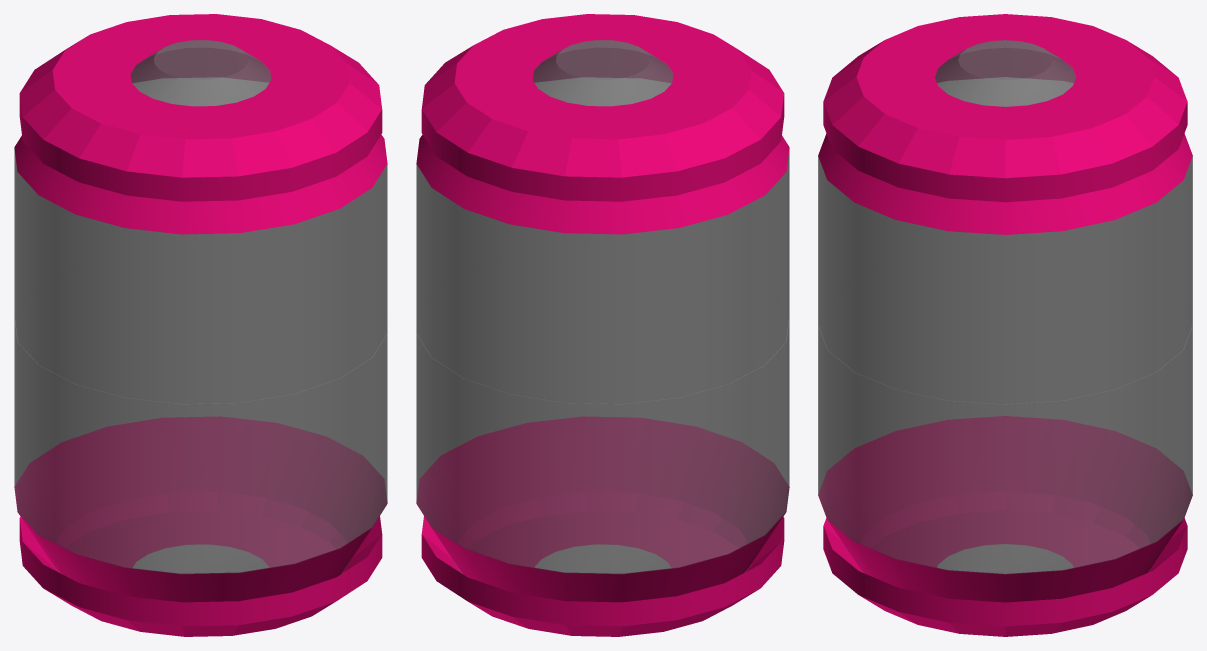
Rendered from CapsuleBaby_V1.0.fbx.
3 renders of one model, left to right at view 1: azimuth 30°, elevation 25°; view 2: azimuth 150°, elevation 25°; view 3: azimuth 270°, elevation 25°, orthographic.
Parts seen in each view (by area): view 1: polySurface33; view 2: polySurface33; view 3: polySurface33.
Part boxes in pixels (x1,y1,x2,y2): polySurface33: (14,14,387,636); polySurface33: (416,14,789,636); polySurface33: (818,14,1192,636).
Size of the model in its own units: 46.17 by 72.15 by 46.17.
